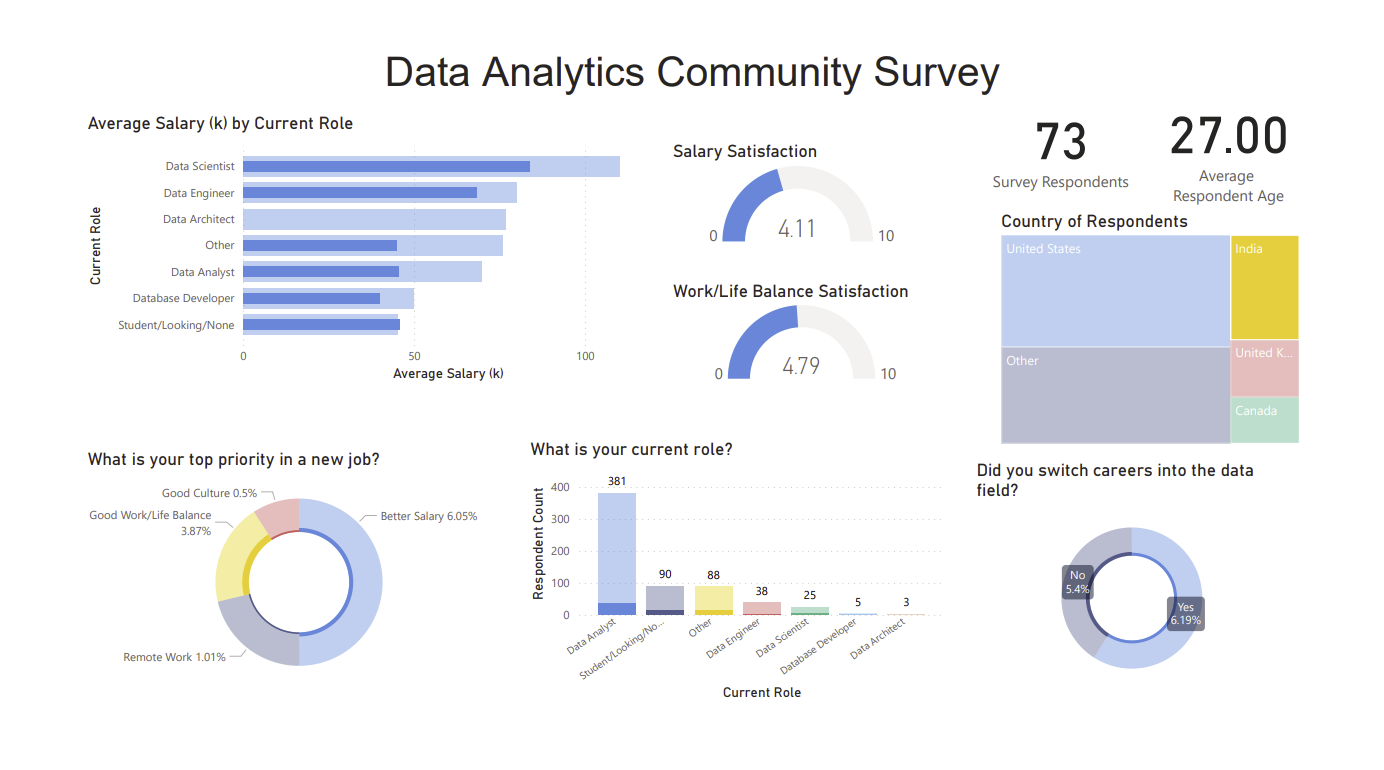

This screenshot's page, from the dashboard's own definition file:
{"tool":"powerbi","page":{"name":"Page 1","canvas":[1280,720],"ordinal":0},"visuals":[{"type":"textbox","box":[9.7,0,1270.3,72],"z":0},{"type":"card","fields":{"Values":["Count(Data Professional Survey.Unique ID)"]},"box":[957.8,35.6,165,139.1],"z":1000},{"type":"card","fields":{"Values":["Avg(Data Professional Survey.Q10 - Current Age)"]},"box":[1122.9,12.9,156.9,182.8],"z":2000},{"type":"donutChart","title":"Did you switch careers into the data field?","fields":{"Category":["Data Professional Survey.Q2 - Did you switch careers into Data?"],"Y":["CountNonNull(Data Professional Survey.Unique ID)"]},"box":[932,435.2,334.9,247.6],"z":3000},{"type":"barChart","fields":{"Category":["Data Professional Survey.Q1 - Which Title Best Fits your Current Role?.1"],"Y":["Avg(Data Professional Survey.Q3 - Current Yearly Salary (in USD) - Copy.2)"]},"box":[0,72.8,613.2,286.4],"z":4000},{"type":"treemap","title":"Country of Respondents","fields":{"Values":["CountNonNull(Data Professional Survey.Unique ID)"],"Group":["Data Professional Survey.Q11 - Which Country do you live in?.1"]},"box":[957.8,174.7,322,249.2],"z":5000},{"type":"donutChart","title":"What is your top priority in a new job?","fields":{"Category":["Data Professional Survey.Q8 - If you were to look for a new job today, what would be the most important thing to you?"],"Y":["CountNonNull(Data Professional Survey.Unique ID)"]},"box":[0,423.9,453,258.9],"z":6000},{"type":"gauge","title":"Work/Life Balance Satisfaction","fields":{"Y":["Avg(Data Professional Survey.Q6 - How Happy are you in your Current Position with the following? (Work/Life Balance))"],"MinValue":["Min(Data Professional Survey.Q6 - How Happy are you in your Current Position with the following? (Work/Life Balance))"],"MaxValue":["Max(Data Professional Survey.Q6 - How Happy are you in your Current Position with the following? (Work/Life Balance))"]},"box":[613.2,247.6,288,113.3],"z":7000},{"type":"gauge","title":"Salary Satisfaction","fields":{"Y":["Avg(Data Professional Survey.Q6 - How Happy are you in your Current Position with the following? (Upward Mobility))"],"MinValue":["Min(Data Professional Survey.Q6 - How Happy are you in your Current Position with the following? (Upward Mobility))"],"MaxValue":["Max(Data Professional Survey.Q6 - How Happy are you in your Current Position with the following? (Upward Mobility))"]},"box":[613.2,101.9,279.9,114.9],"z":8000},{"type":"columnChart","title":"What is your current role?","fields":{"Category":["Data Professional Survey.Q1 - Which Title Best Fits your Current Role?.1"],"Y":["CountNonNull(Data Professional Survey.Unique ID)"],"Series":["Data Professional Survey.Q1 - Which Title Best Fits your Current Role?.1"]},"box":[464.4,414.2,444.9,278.3],"z":9000}]}

Visuals, with their boxes in screenshot pixels (x1, y1, x2, y2), scaled from the page's 1280x720 canvas onto the 1384x770 screenshot:
textbox: bbox=(10, 0, 1383, 77)
card - Count(Data Professional Survey.Unique ID): bbox=(1036, 38, 1214, 187)
card - Avg(Data Professional Survey.Q10 - Current Age): bbox=(1214, 14, 1383, 209)
"Did you switch careers into the data field?" donutChart: bbox=(1008, 465, 1370, 730)
barChart - Data Professional Survey.Q1 - Which Title Best Fits your Current Role?.1 x Avg(Data Professional Survey.Q3 - Current Yearly Salary (in USD) - Copy.2): bbox=(0, 78, 663, 384)
"Country of Respondents" treemap: bbox=(1036, 187, 1383, 453)
"What is your top priority in a new job?" donutChart: bbox=(0, 453, 490, 730)
"Work/Life Balance Satisfaction" gauge: bbox=(663, 265, 974, 386)
"Salary Satisfaction" gauge: bbox=(663, 109, 966, 232)
"What is your current role?" columnChart: bbox=(502, 443, 983, 741)
